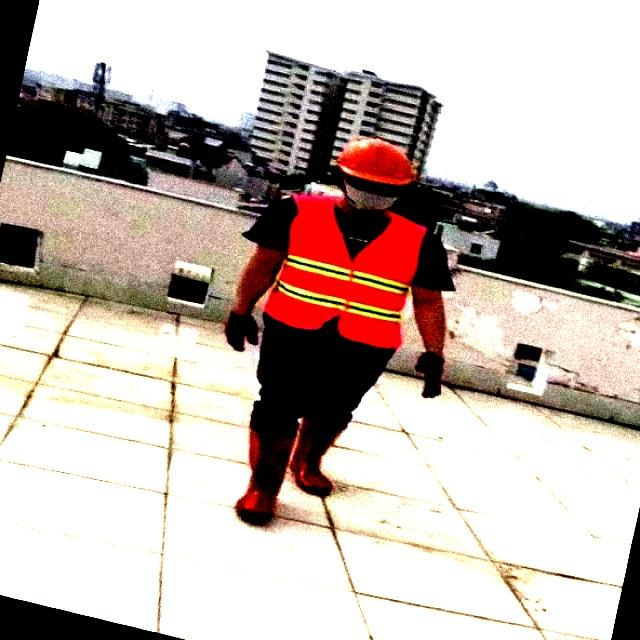helmet: (321, 129, 446, 185)
safety_vest: (276, 183, 426, 374)
